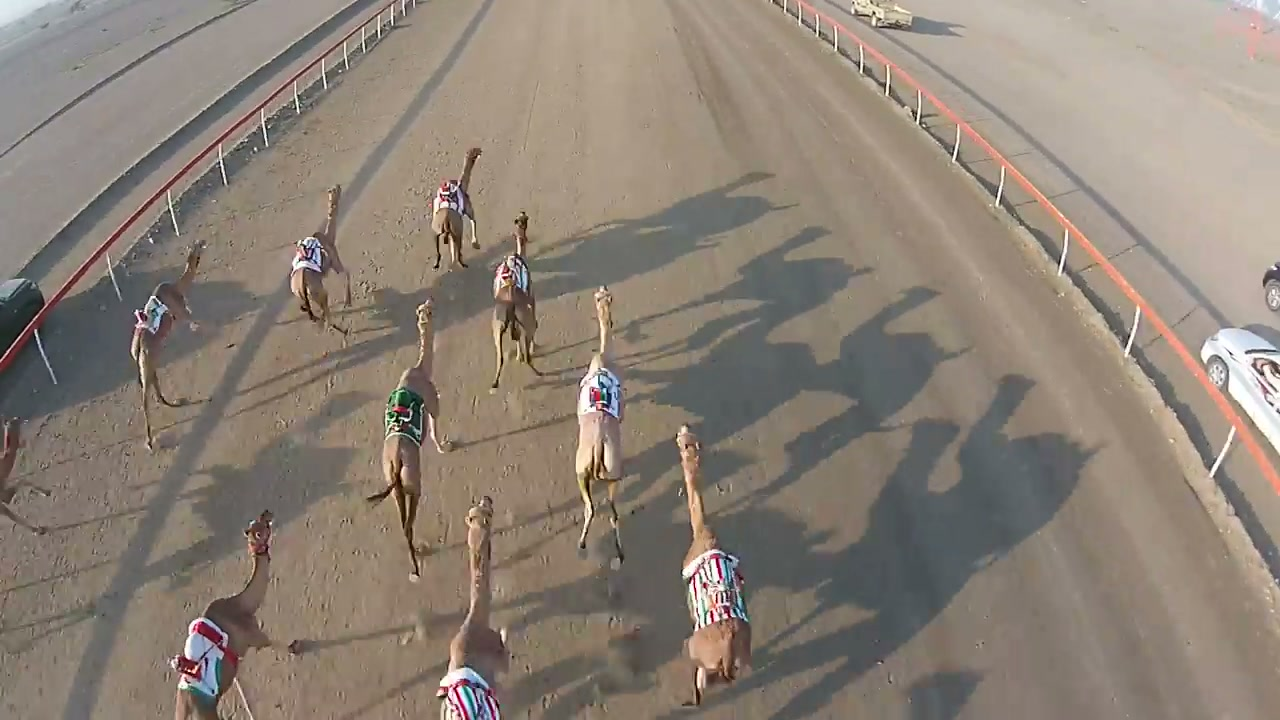animal_footprint: (454, 414, 648, 719), (273, 370, 399, 719)
